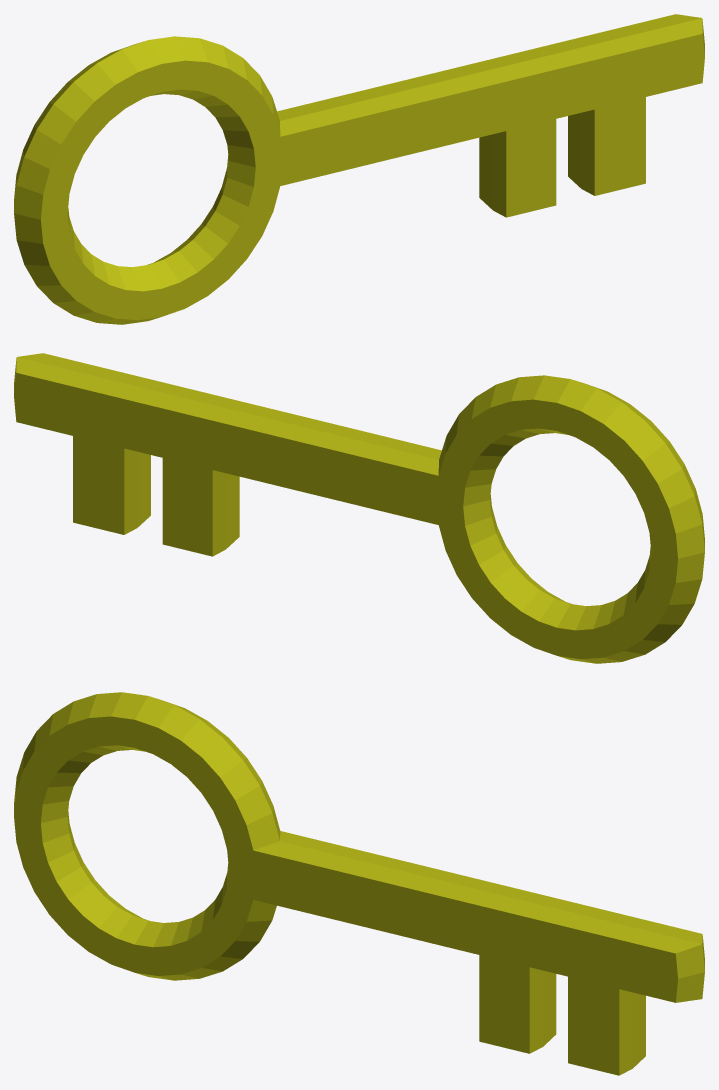
File: key.fbx
3 views of the same model, one above another, from view 1: azimuth 30°, elevation 25°; view 2: azimuth 150°, elevation 25°; view 3: azimuth 330°, elevation 25° (orthographic).
Parts seen in each view (by area): view 1: Key; view 2: Key; view 3: Key.
Boxes of the visible parts, box(x1,y1,x2,y2) form: Key: box(14, 14, 704, 324); Key: box(14, 353, 704, 663); Key: box(14, 692, 704, 1075).
Bounding box in the file's own units: 2.13 × 0.8297 × 0.1437.
